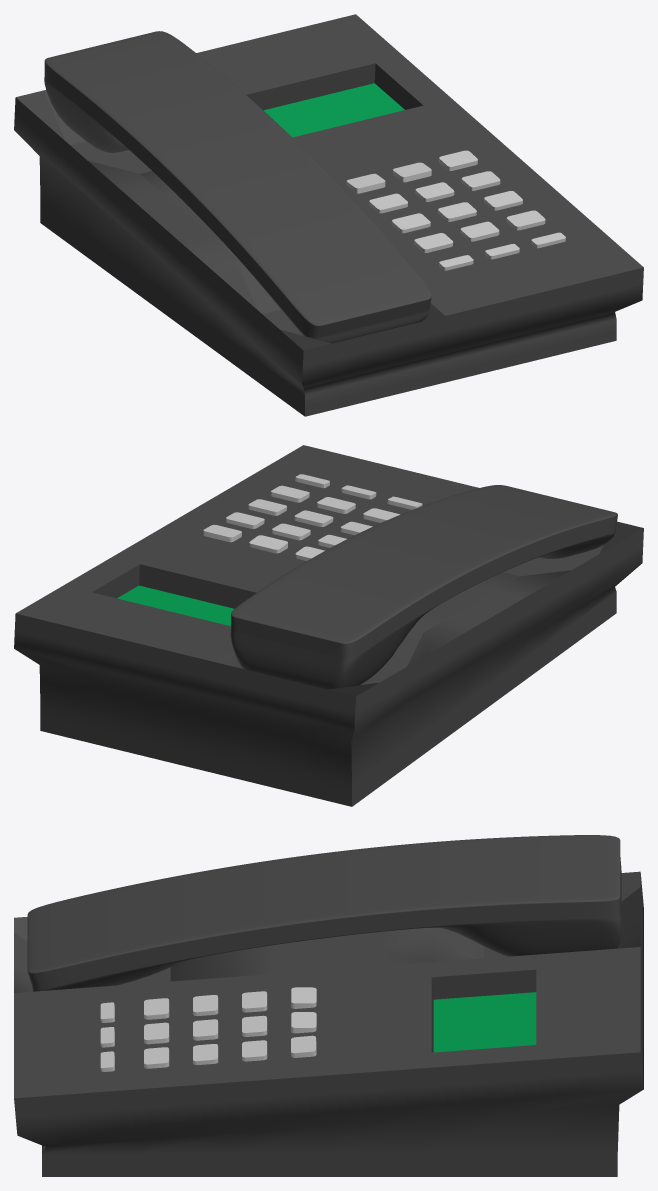
File: OfficePhone.fbx
The picture shows the model from 3 angles, top to bottom: view 1: azimuth 30°, elevation 25°; view 2: azimuth 150°, elevation 25°; view 3: azimuth 270°, elevation 25°; orthographic projection. The views are drawn at different scales.
Visible parts, largest first — view 1: PhoneBase, Phone; view 2: PhoneBase, Phone; view 3: PhoneBase, Phone.
Part boxes in pixels (x1,y1,x2,y2): PhoneBase: (14,14,643,416); Phone: (44,31,431,343); PhoneBase: (14,445,643,806); Phone: (230,485,617,689); PhoneBase: (14,871,643,1176); Phone: (27,835,621,991).
Size of the model in its own units: 5.8 by 2.66 by 8.55.
